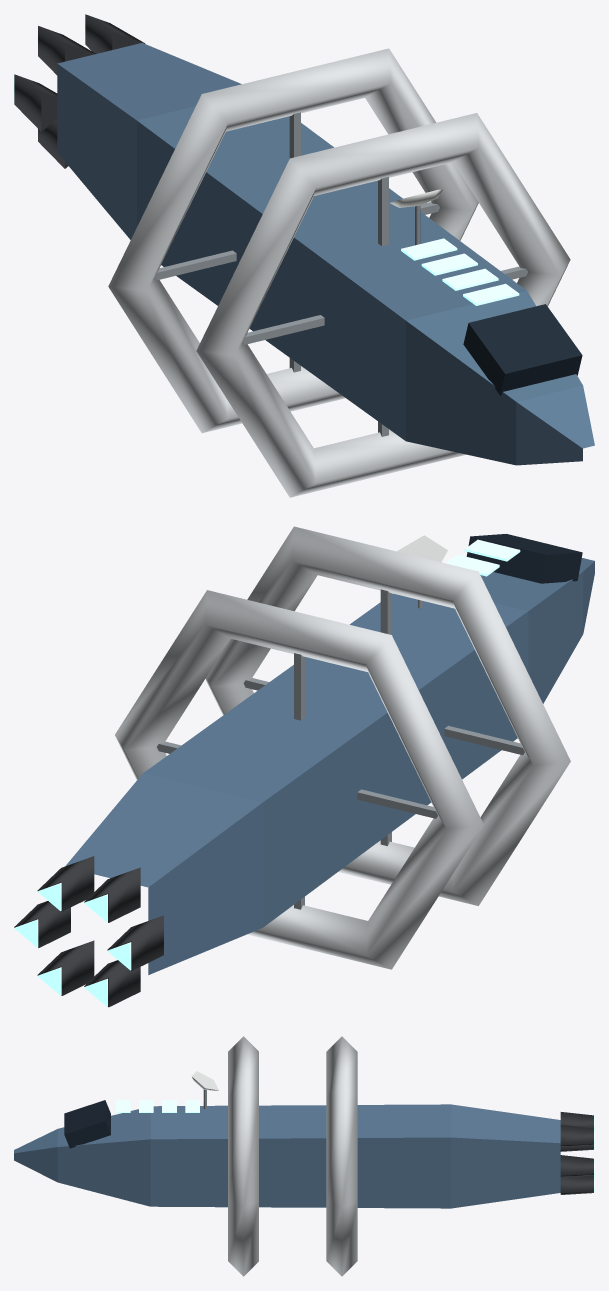
Rendered from space_ship_colony_transport_mk5_lod2.glb.
3 views of the same model, one above another, from view 1: azimuth 30°, elevation 25°; view 2: azimuth 150°, elevation 25°; view 3: azimuth 270°, elevation 25° (orthographic). The views are drawn at different scales.
Visible parts, largest first — view 1: body, habitat_ring_1, habitat_ring_0, engine_3, engine_2, engine_1, antenna_0; view 2: body, habitat_ring_0, habitat_ring_1, engine_1, engine_5, engine_2, engine_3, engine_4, engine_0, antenna_0; view 3: body, habitat_ring_0, habitat_ring_1, engine_0, engine_1, engine_5, engine_2, antenna_0.
Boxes of the visible parts, left/top/right/bottom form: body: left=57, top=43, right=594, bottom=465; habitat_ring_1: left=196, top=113, right=570, bottom=497; habitat_ring_0: left=108, top=48, right=478, bottom=433; engine_3: left=14, top=74, right=57, bottom=131; engine_2: left=37, top=26, right=95, bottom=75; engine_1: left=85, top=14, right=145, bottom=53; antenna_0: left=390, top=189, right=442, bottom=245; body: left=65, top=534, right=594, bottom=974; habitat_ring_0: left=115, top=590, right=483, bottom=969; habitat_ring_1: left=205, top=526, right=570, bottom=905; engine_1: left=37, top=856, right=94, bottom=911; engine_5: left=37, top=940, right=94, bottom=995; engine_2: left=84, top=867, right=140, bottom=922; engine_3: left=107, top=915, right=163, bottom=970; engine_4: left=84, top=960, right=140, bottom=1007; engine_0: left=14, top=901, right=70, bottom=947; antenna_0: left=397, top=535, right=447, bottom=608; body: left=14, top=1100, right=560, bottom=1208; habitat_ring_0: left=326, top=1036, right=357, bottom=1276; habitat_ring_1: left=228, top=1036, right=258, bottom=1276; engine_0: left=560, top=1155, right=594, bottom=1177; engine_1: left=560, top=1124, right=594, bottom=1147; engine_5: left=560, top=1175, right=594, bottom=1194; engine_2: left=560, top=1112, right=594, bottom=1128; antenna_0: left=191, top=1071, right=218, bottom=1109.
Size of the model in its own units: 26.16 by 22.66 by 62.92.
